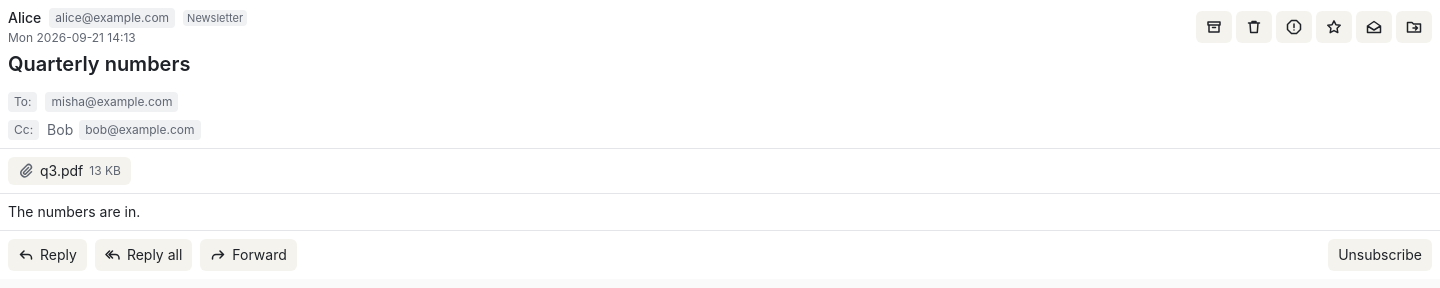
the reading pane › says why an unsubscribe failed, and offers the sender's page
The width and height of the screenshot is (1440, 288).
Click the button "Unsubscribe": (1380, 255) [1328, 239, 1432, 271]
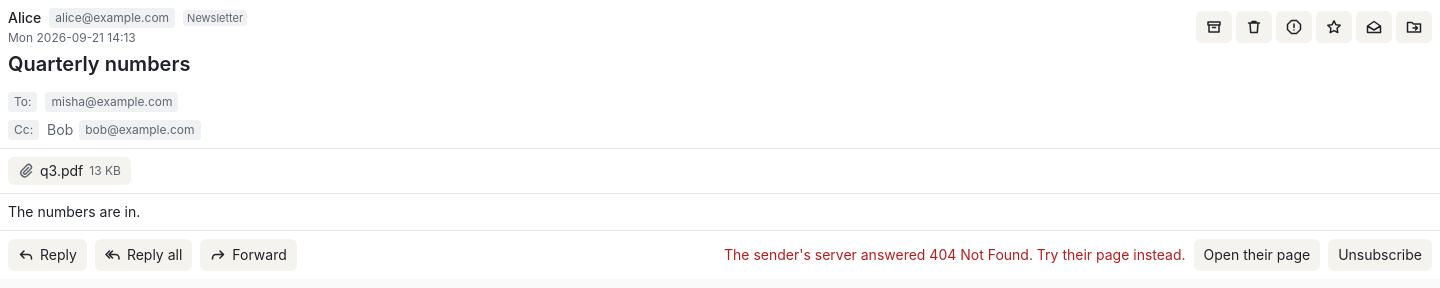
Expected: the text "answered 404 Not Found" is shown, [724, 246, 1186, 263]
